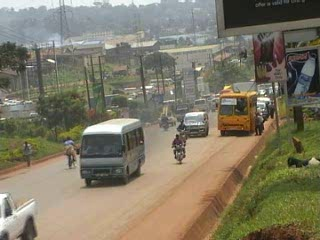Motorcycle: (170, 132, 186, 166), (174, 118, 188, 139), (159, 112, 168, 131)
